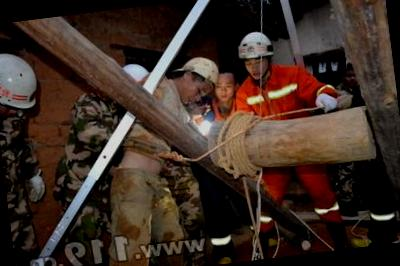no_helmet: (211, 64, 243, 106)
